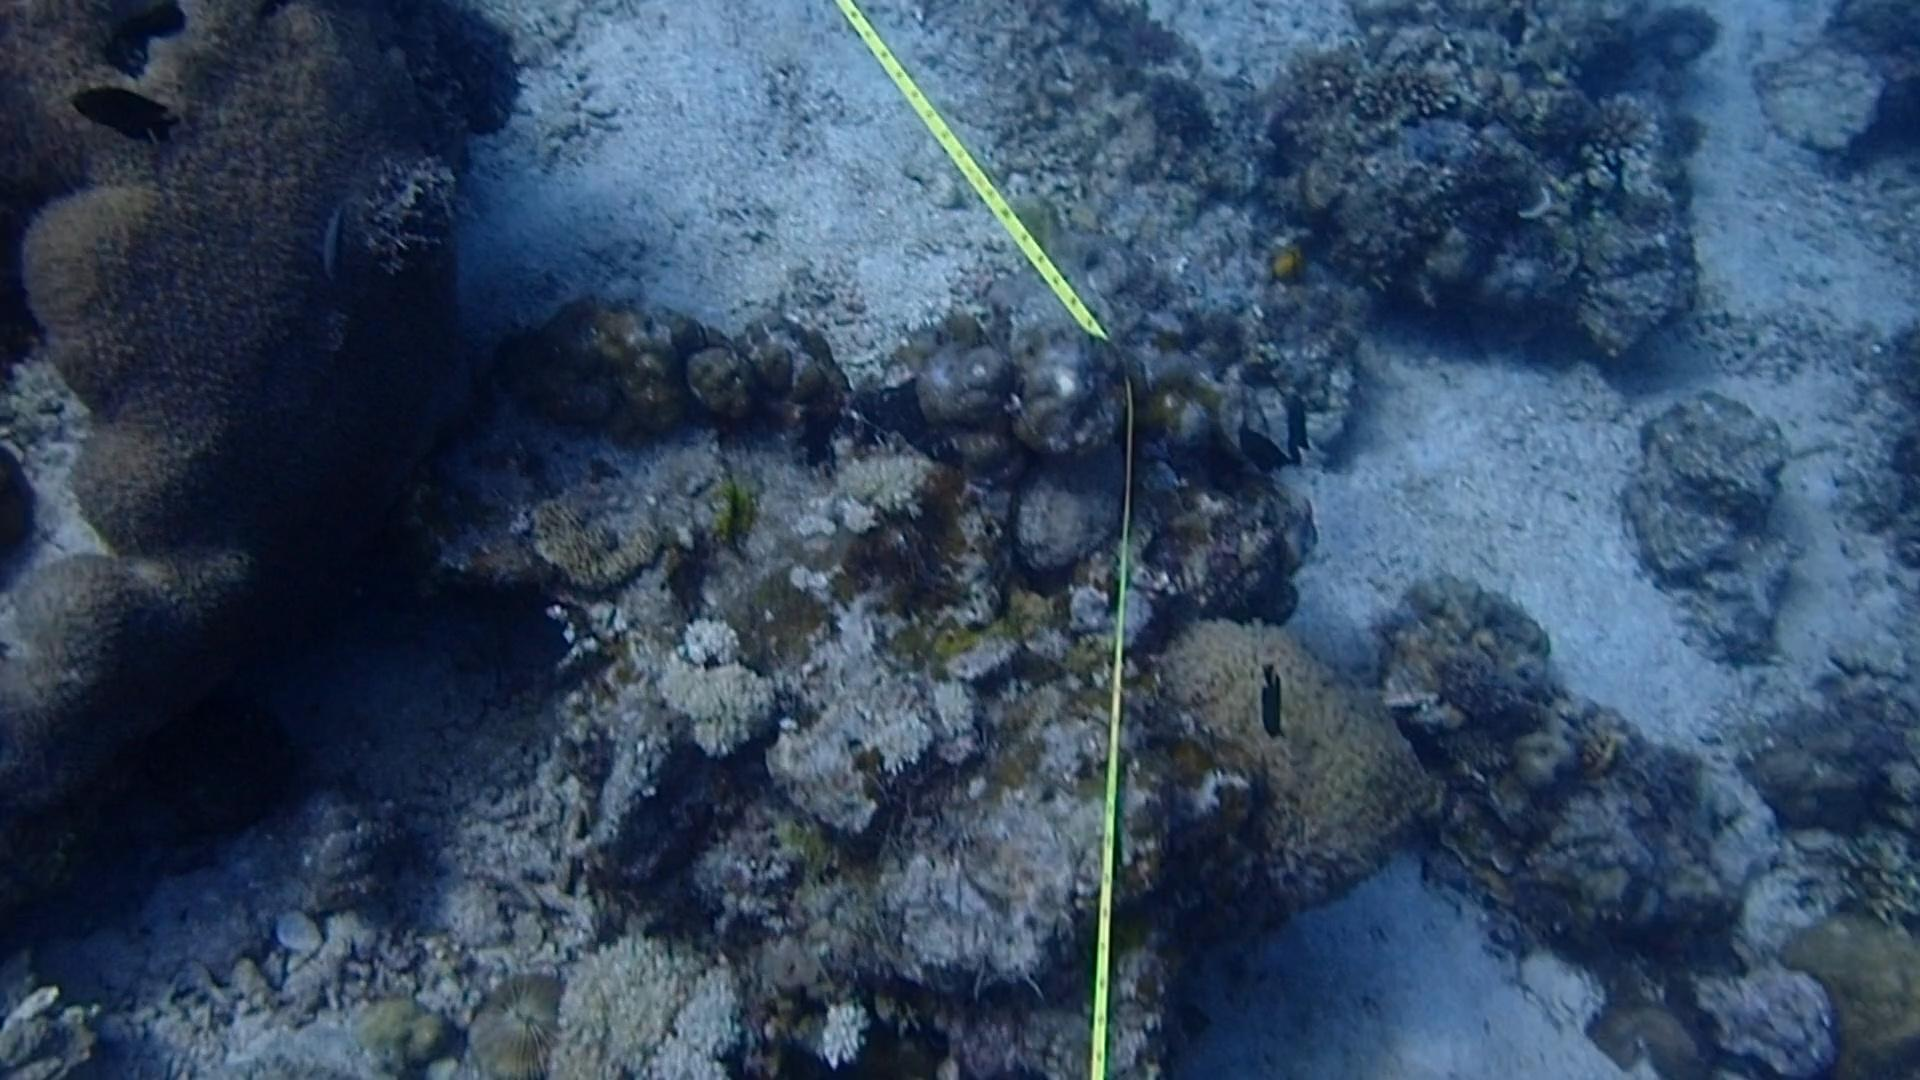Dark Fish: (63, 69, 189, 167), (1383, 698, 1466, 794), (1244, 655, 1305, 753), (1220, 415, 1296, 491), (1269, 385, 1329, 455), (1499, 3, 1543, 59)
Light Fish: (305, 200, 353, 278)
